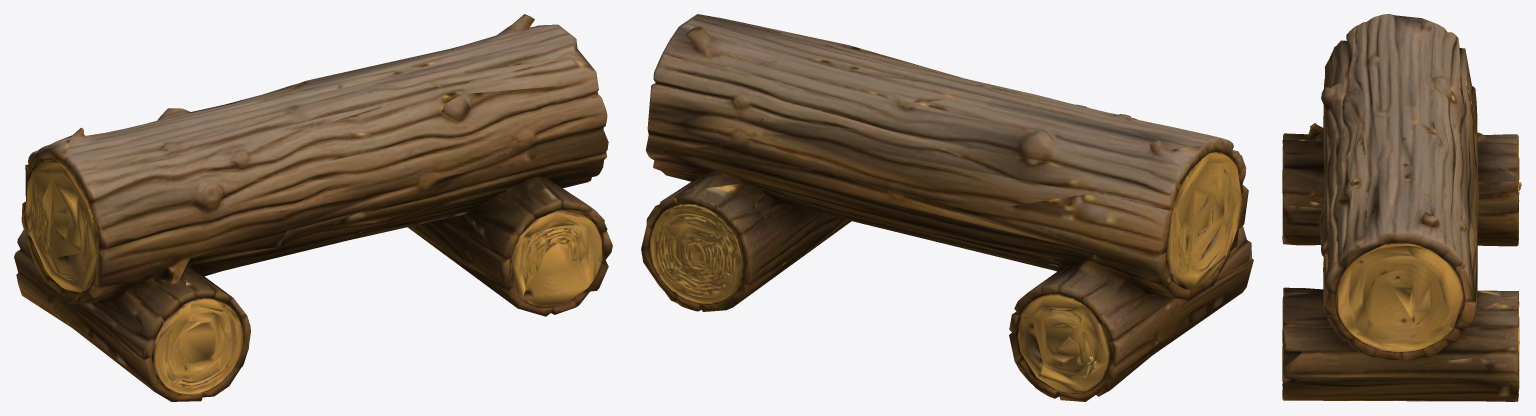
The model's file is log_bridge.glb.
The picture shows the model from 3 angles, left to right: view 1: azimuth 30°, elevation 25°; view 2: azimuth 150°, elevation 25°; view 3: azimuth 270°, elevation 25°; orthographic projection. The views are drawn at different scales.
Visible parts, largest first — view 1: node_0; view 2: node_0; view 3: node_0.
Part boxes in pixels (box(x1,y1,x2,y2)): node_0: box(14, 14, 612, 401); node_0: box(641, 14, 1253, 401); node_0: box(1282, 14, 1521, 401).
Size of the model in its own units: 1.12 by 0.4841 by 0.5141.
Materials: 1 (1 with a texture image).
